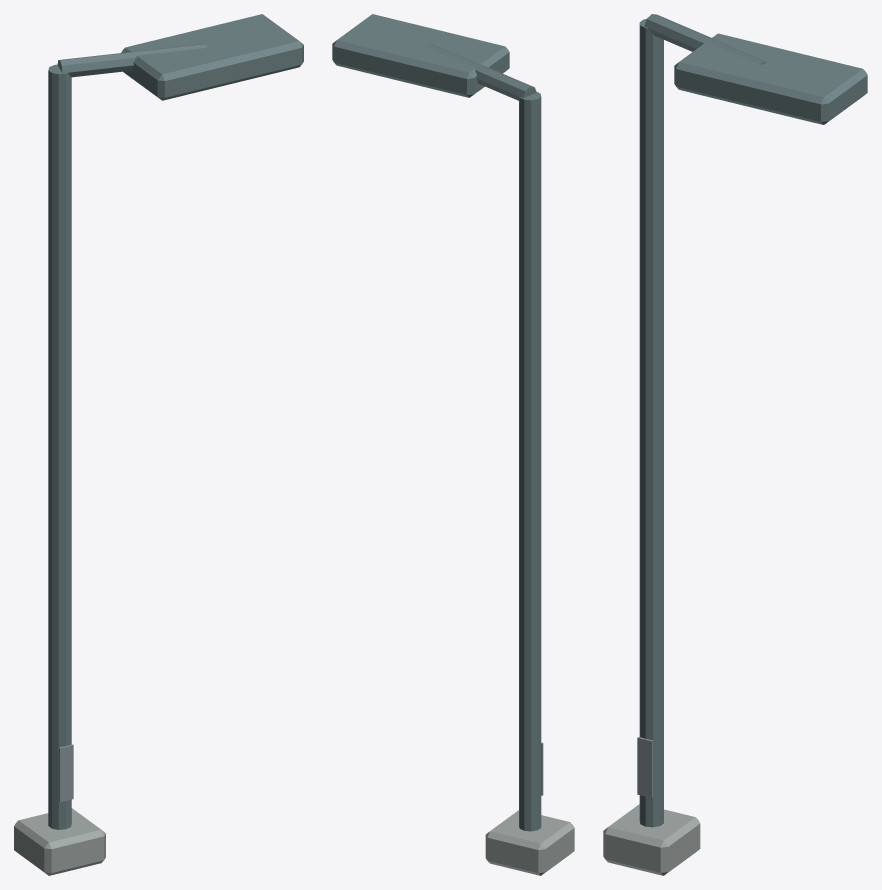
Rendered from street_lamp.fbx.
3 views of the same model, side by side, from view 1: azimuth 30°, elevation 25°; view 2: azimuth 150°, elevation 25°; view 3: azimuth 330°, elevation 25° (orthographic). The views are drawn at different scales.
Parts seen in each view (by area): view 1: street_lamp__shaft, street_lamp__head, street_lamp__base, street_lamp__cantilever, street_lamp__access_plate; view 2: street_lamp__shaft, street_lamp__head, street_lamp__base, street_lamp__cantilever; view 3: street_lamp__shaft, street_lamp__head, street_lamp__base, street_lamp__cantilever, street_lamp__access_plate.
Part boxes in pixels (x1,y1,x2,y2): street_lamp__shaft: (48,64,71,829); street_lamp__head: (121,14,303,100); street_lamp__base: (14,808,105,875); street_lamp__cantilever: (57,44,206,77); street_lamp__access_plate: (59,744,73,802); street_lamp__shaft: (519,92,541,831); street_lamp__head: (332,14,509,97); street_lamp__base: (485,810,574,875); street_lamp__cantilever: (424,43,536,100); street_lamp__shaft: (639,19,663,827); street_lamp__head: (674,33,867,124); street_lamp__base: (603,804,700,875); street_lamp__cantilever: (644,14,766,64); street_lamp__access_plate: (637,737,652,797).
Size of the model in its own units: 207 by 667 by 89.
